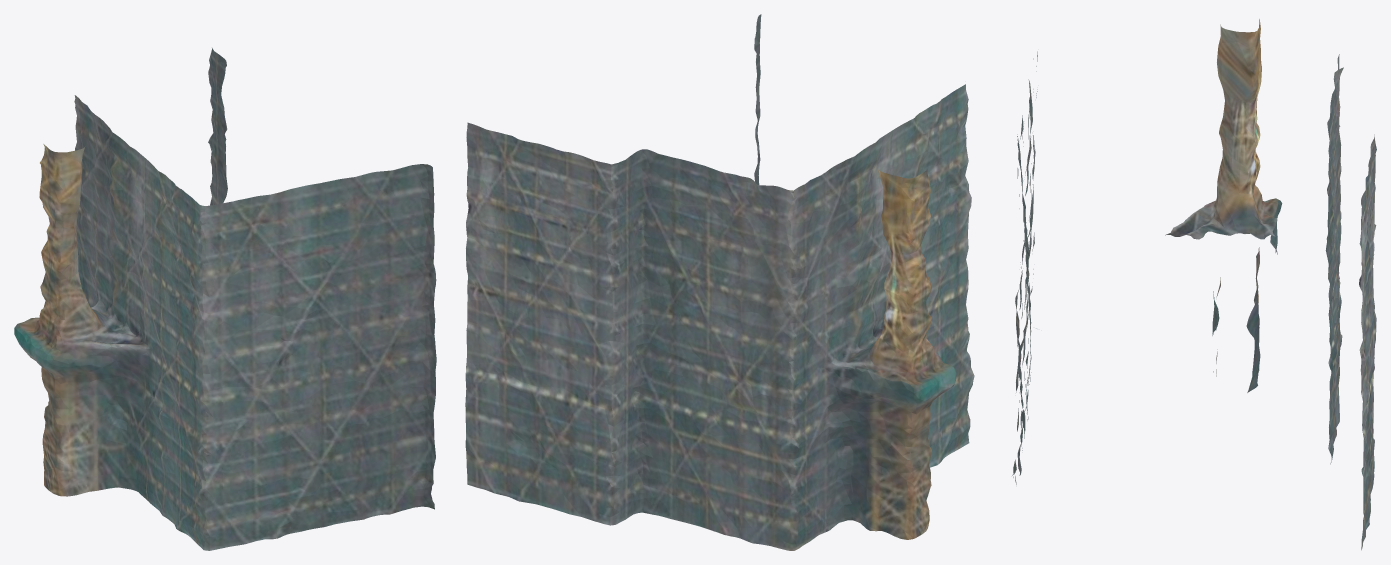
The model's file is Tile__004__002_L22_00030300.glb.
3 renders of one model, left to right at view 1: azimuth 30°, elevation 25°; view 2: azimuth 150°, elevation 25°; view 3: azimuth 270°, elevation 25°, orthographic. The views are drawn at different scales.
Parts seen in each view (by area): view 1: root; view 2: root; view 3: root.
Boxes of the visible parts, x1=… form: root: x1=14, y1=48, x2=436, y2=550; root: x1=465, y1=14, x2=974, y2=550; root: x1=1012, y1=19, x2=1376, y2=550.
Size of the model in its own units: 13.72 by 11.48 by 11.08.
Materials: 1 (1 with a texture image).
